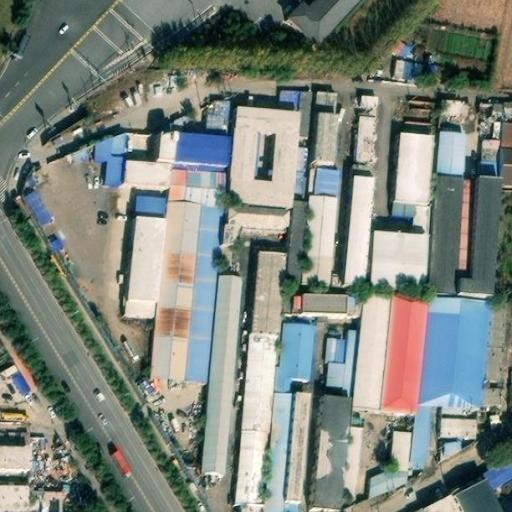building: (150, 199, 200, 381), (201, 277, 245, 474), (418, 294, 484, 414), (228, 104, 300, 210), (185, 202, 224, 384), (379, 287, 428, 412), (330, 168, 375, 289), (311, 394, 353, 511), (458, 180, 501, 294), (127, 197, 166, 319), (352, 285, 390, 409), (264, 392, 303, 512), (428, 177, 463, 293), (370, 230, 433, 291), (300, 193, 338, 294), (242, 331, 279, 433), (475, 299, 505, 407), (369, 431, 416, 498), (251, 249, 288, 334), (157, 132, 233, 172), (392, 131, 433, 205), (274, 321, 315, 393), (286, 394, 312, 502), (236, 430, 267, 512), (166, 166, 230, 205), (323, 328, 358, 397), (225, 204, 291, 239), (454, 179, 477, 277), (285, 198, 308, 292), (283, 291, 350, 317), (95, 133, 128, 184), (355, 96, 378, 164), (456, 480, 502, 512), (438, 132, 467, 179), (390, 202, 431, 235), (344, 430, 363, 501), (201, 100, 236, 138), (311, 113, 338, 162), (413, 402, 432, 469), (124, 163, 169, 188), (481, 455, 512, 491), (25, 189, 53, 226), (293, 148, 312, 199), (309, 165, 340, 195), (2, 363, 32, 393), (441, 101, 476, 126), (298, 92, 317, 138), (0, 483, 28, 511), (440, 418, 475, 440), (31, 489, 64, 512), (388, 54, 417, 80), (480, 138, 497, 182), (43, 226, 66, 251), (315, 93, 340, 115), (279, 90, 302, 110), (483, 407, 500, 427), (502, 125, 512, 150), (503, 102, 512, 117)
